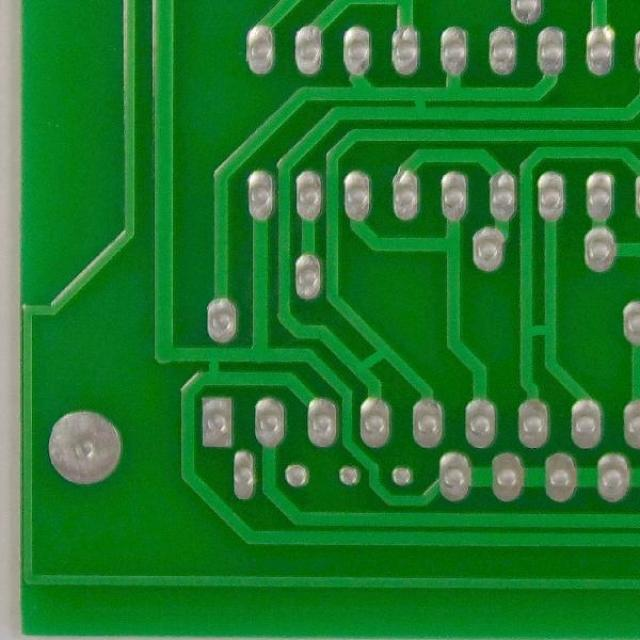Short_Circuit: (350, 334, 390, 383), (515, 314, 562, 352), (403, 82, 436, 127), (200, 346, 232, 388)
